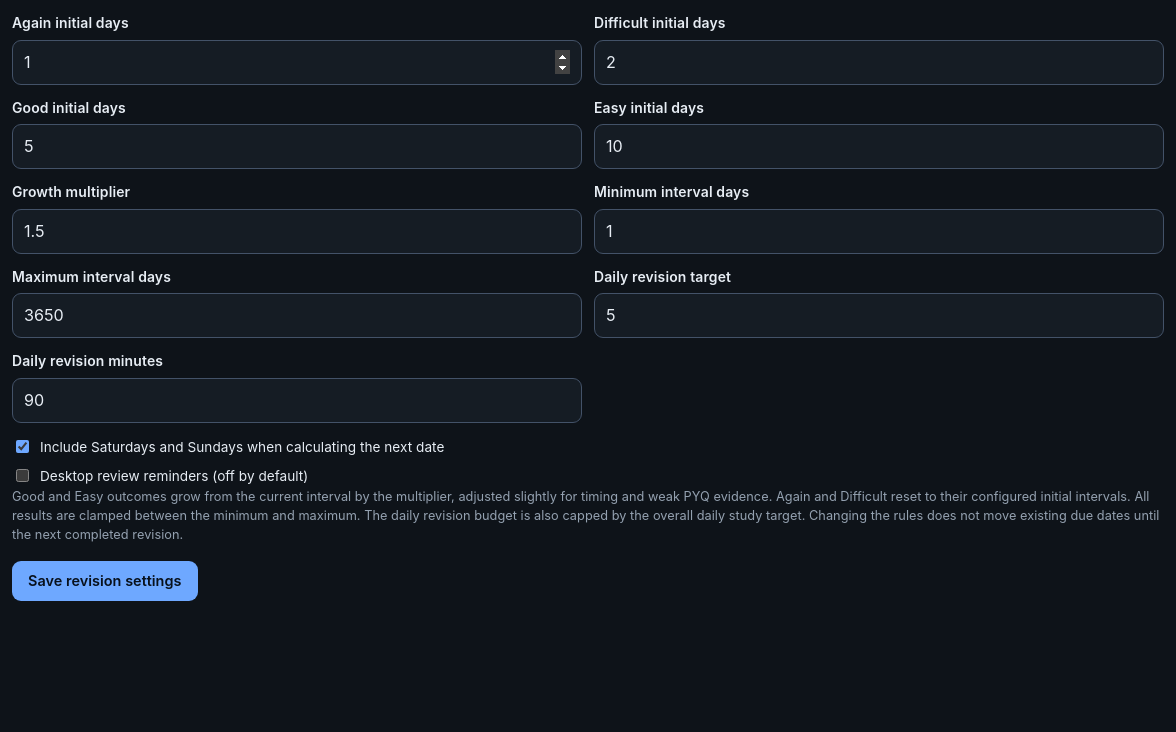
Test: revision settings panel › saves validated interval, weekend, target, and reminder configuration
Replace the text in the number field labelled "Good initial days" with "7". click: (297, 147)
box: x1=12 y1=124 x2=582 y2=169
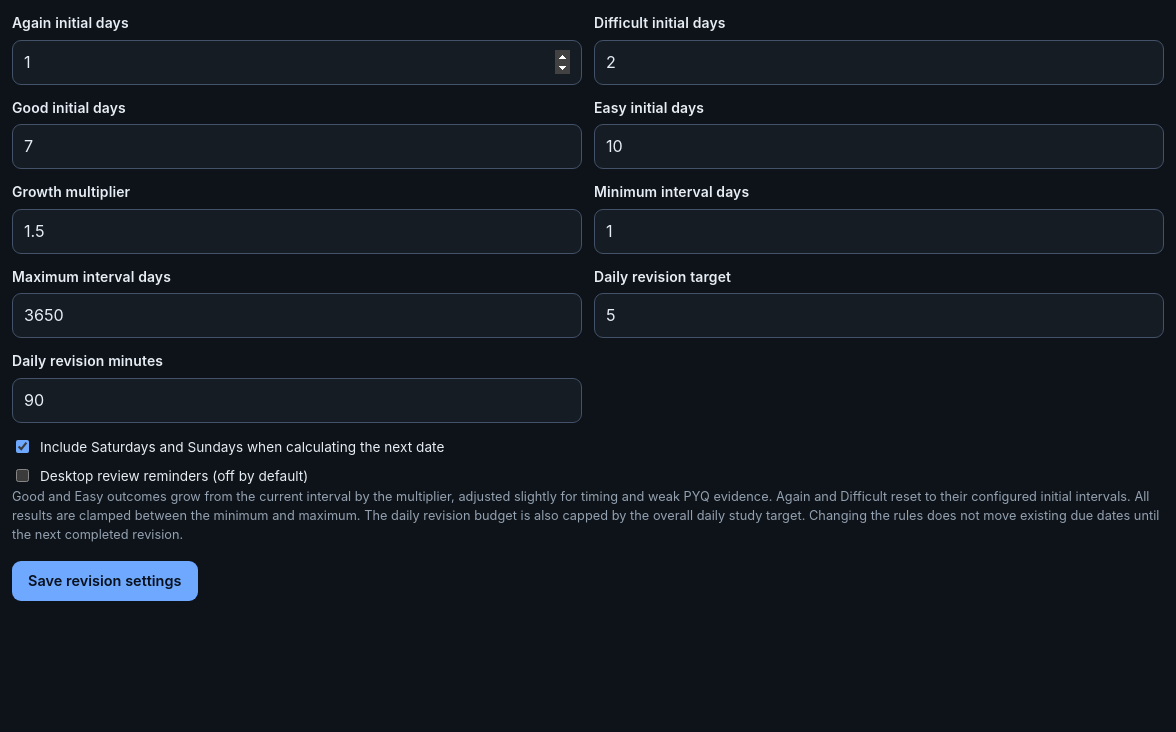
Replace the text in the number field labelled "Growth multiplier" with "2". click: (297, 231)
box: x1=12 y1=209 x2=582 y2=254
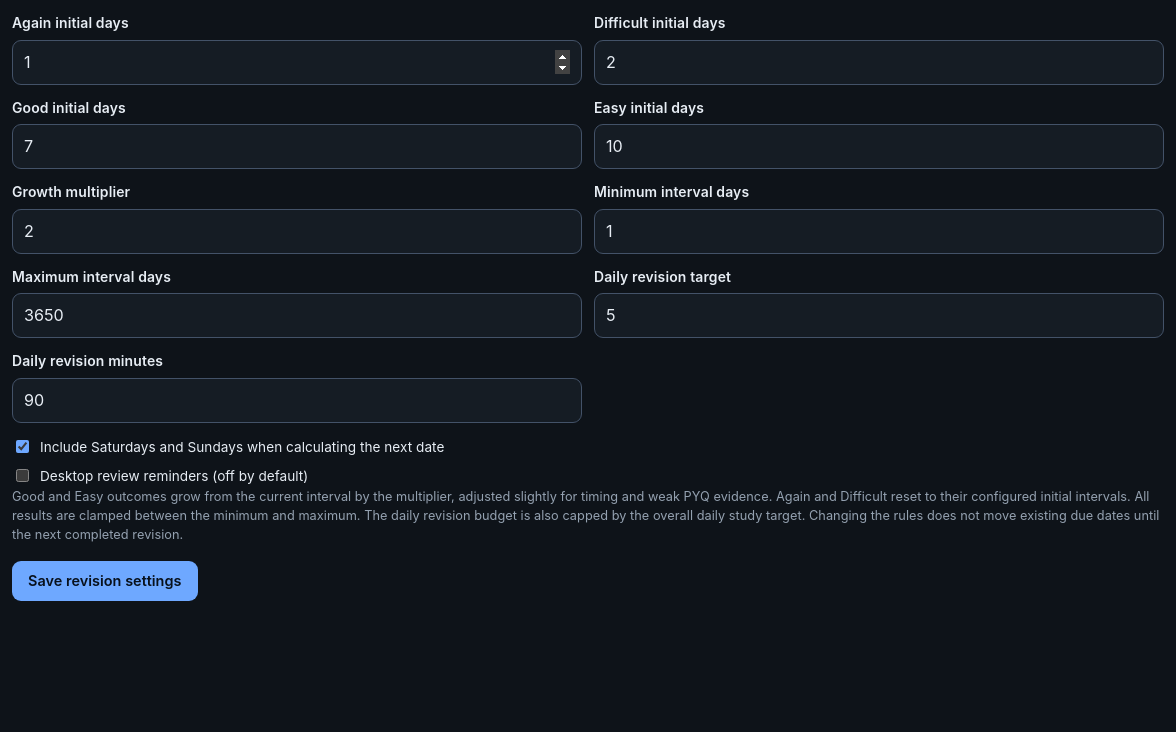
Replace the text in the number field labelled "Daily revision target" with "6". click: (879, 316)
box: x1=594 y1=293 x2=1164 y2=338
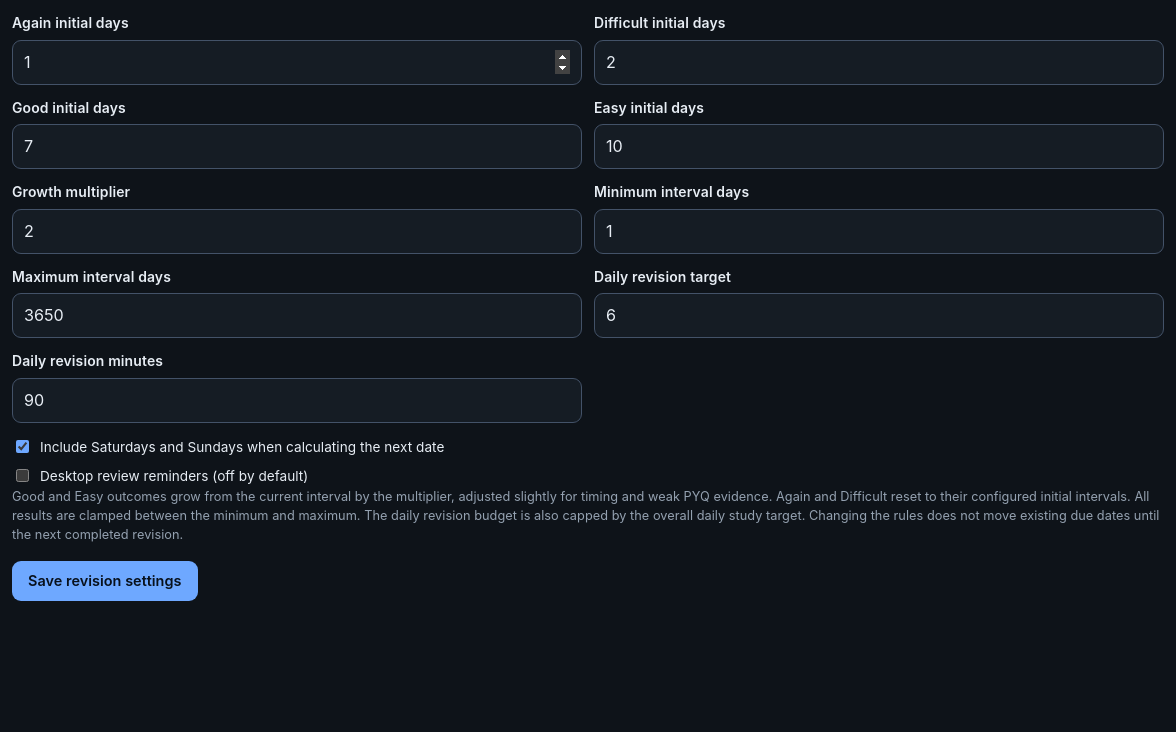
Replace the text in the number field labelled "Daily revision minutes" with "120". click: (297, 400)
box: x1=12 y1=378 x2=582 y2=423
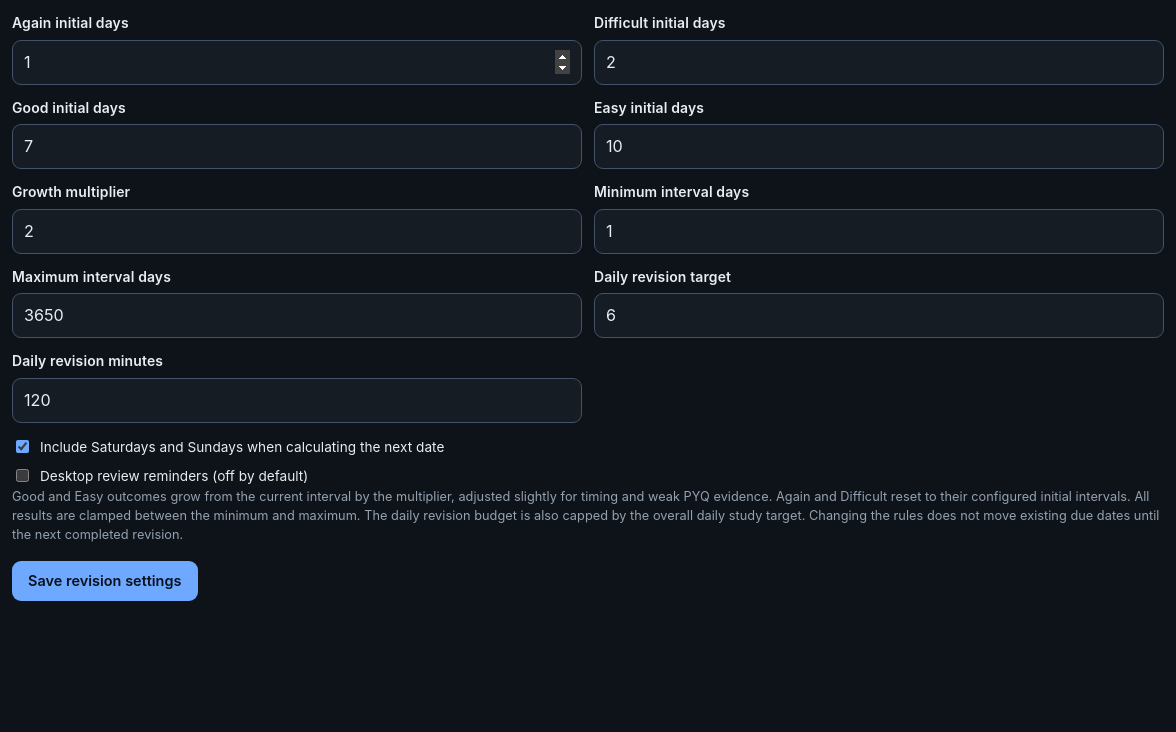
Click the checkbox labelled "Include Saturdays and Sundays when calculating the next date". click: (22, 446)
box: x1=16 y1=440 x2=29 y2=453
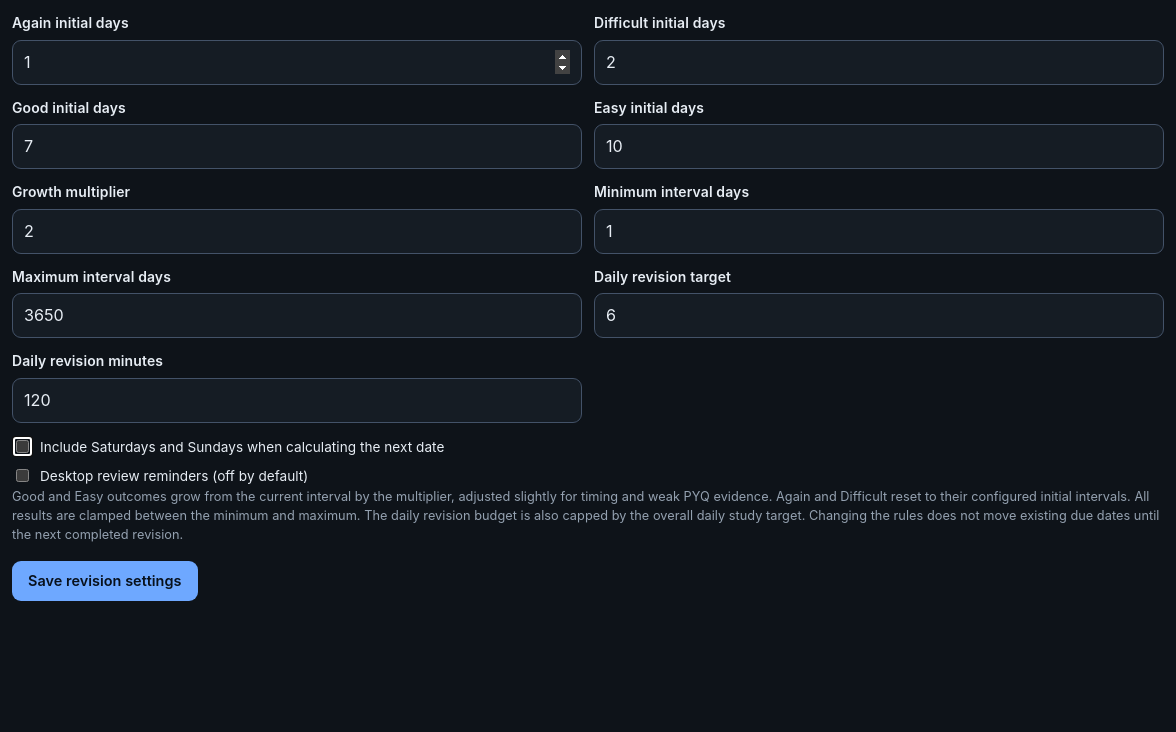
Click the button "Save revision settings". click: (105, 581)
box: x1=12 y1=560 x2=198 y2=601
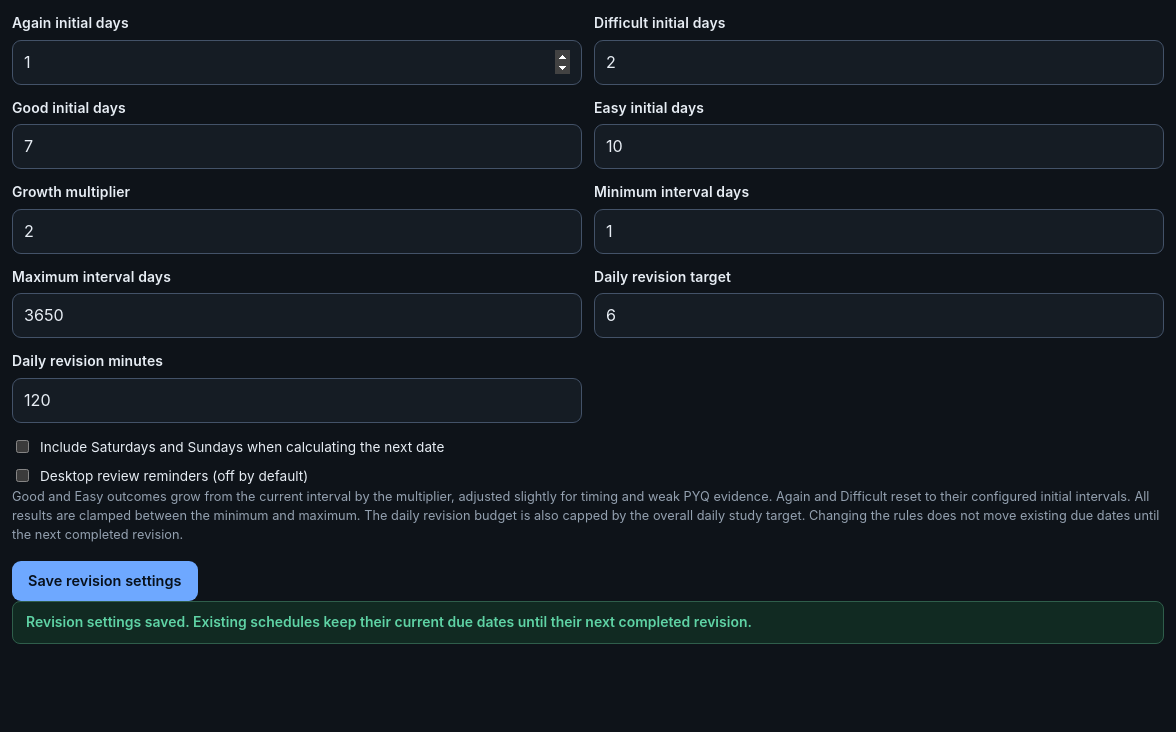
Expected: the text "Revision settings saved" is shown, x1=26 y1=613 x2=752 y2=630
